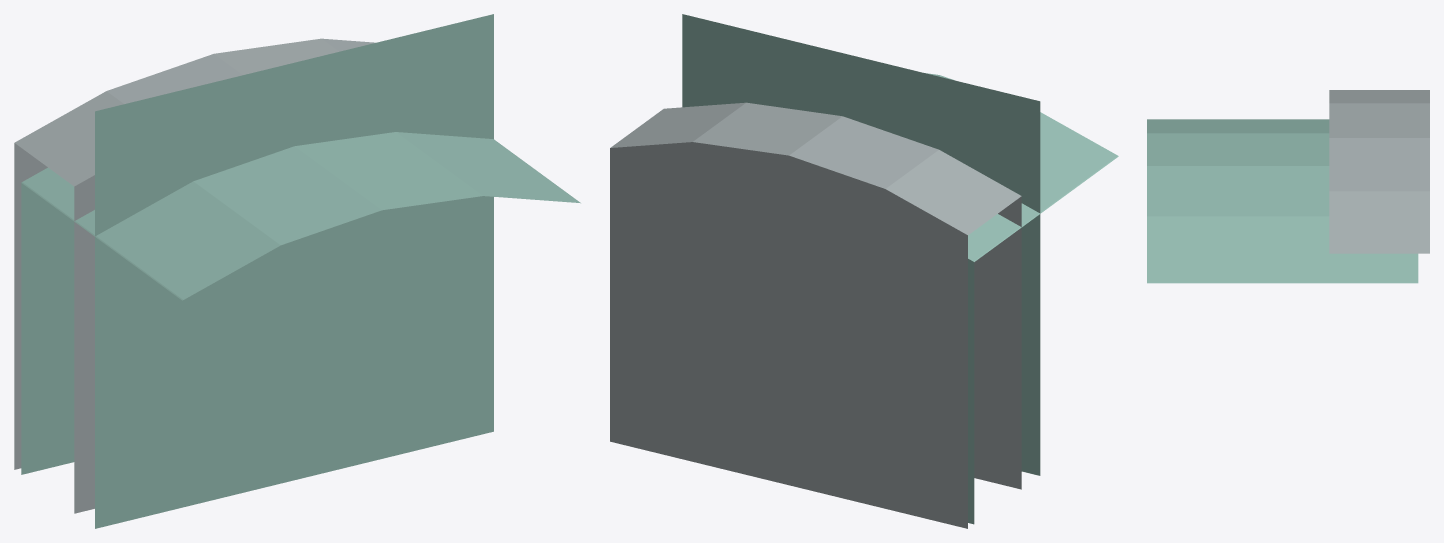
File: cell_142.obj
3 renders of one model, left to right at view 1: azimuth 30°, elevation 25°; view 2: azimuth 150°, elevation 25°; view 3: azimuth 270°, elevation 25°, orthographic. The views are drawn at different scales.
Bounding box in the file's own units: 1 × 1 × 0.73.
